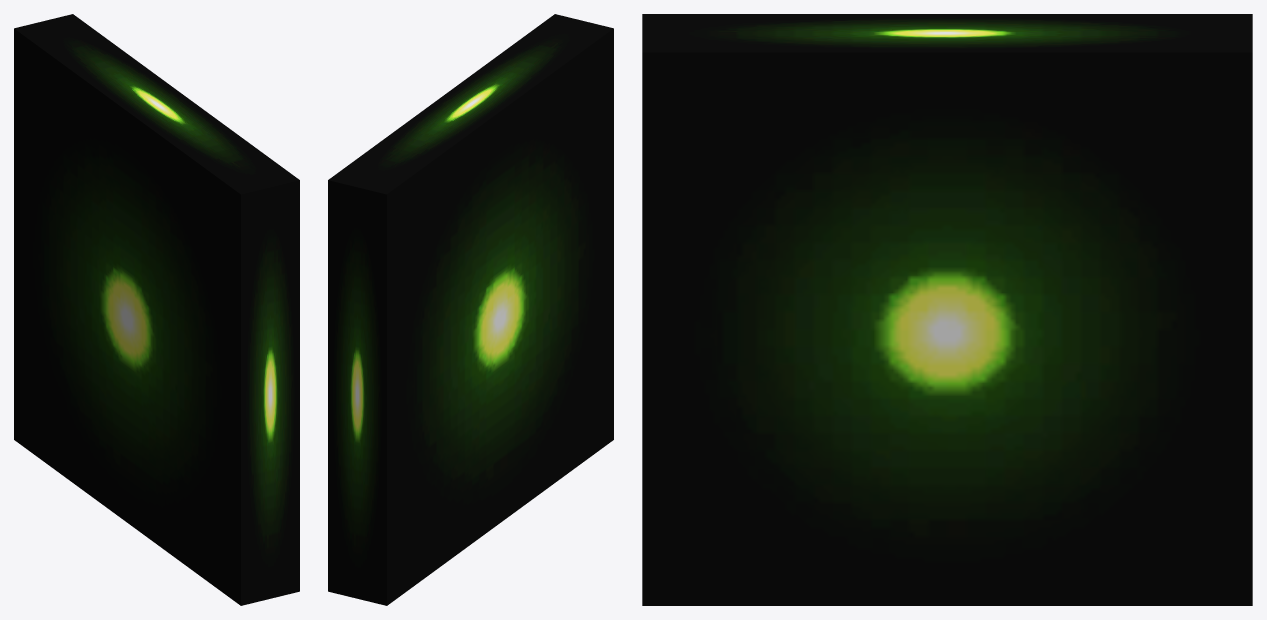
File: 0290_fangyu_M.glb
3 renders of one model, left to right at view 1: azimuth 30°, elevation 25°; view 2: azimuth 150°, elevation 25°; view 3: azimuth 270°, elevation 25°, orthographic. The views are drawn at different scales.
Size of the model in its own units: 0.33 by 2.2 by 2.2.
Materials: 1 (1 with a texture image).
